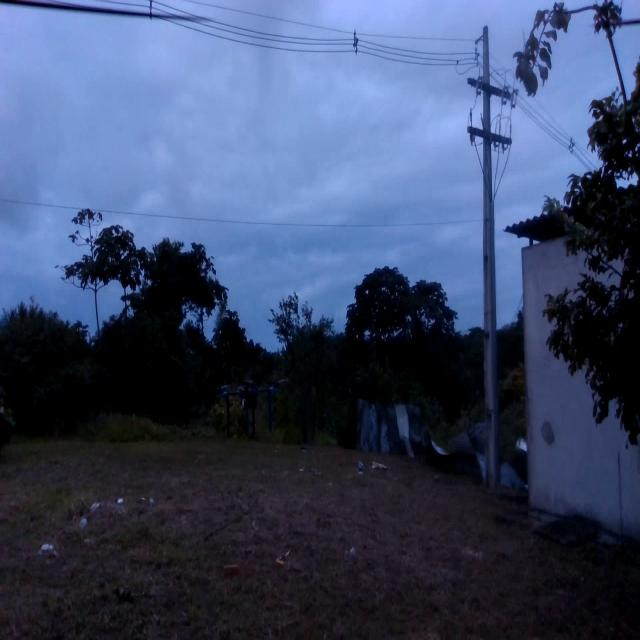-uav-: (212, 366, 295, 459)
